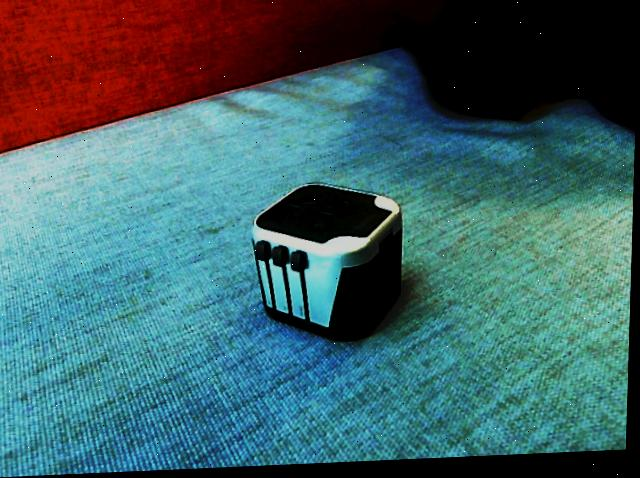adapter: (249, 182, 406, 349)
